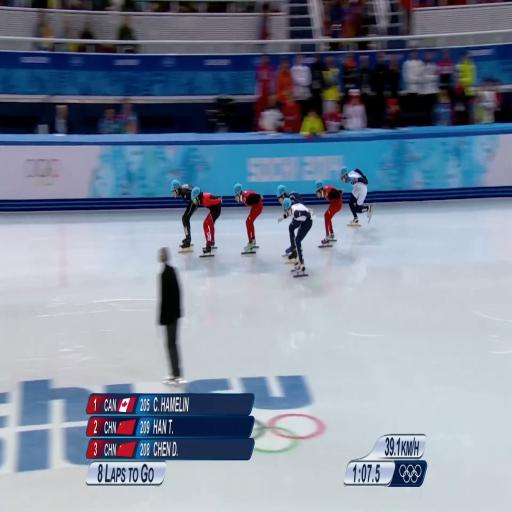Skater: (283, 198, 312, 275), (191, 188, 221, 256), (341, 167, 374, 226), (235, 184, 262, 254), (172, 180, 197, 252), (316, 181, 342, 246), (277, 185, 302, 204)
